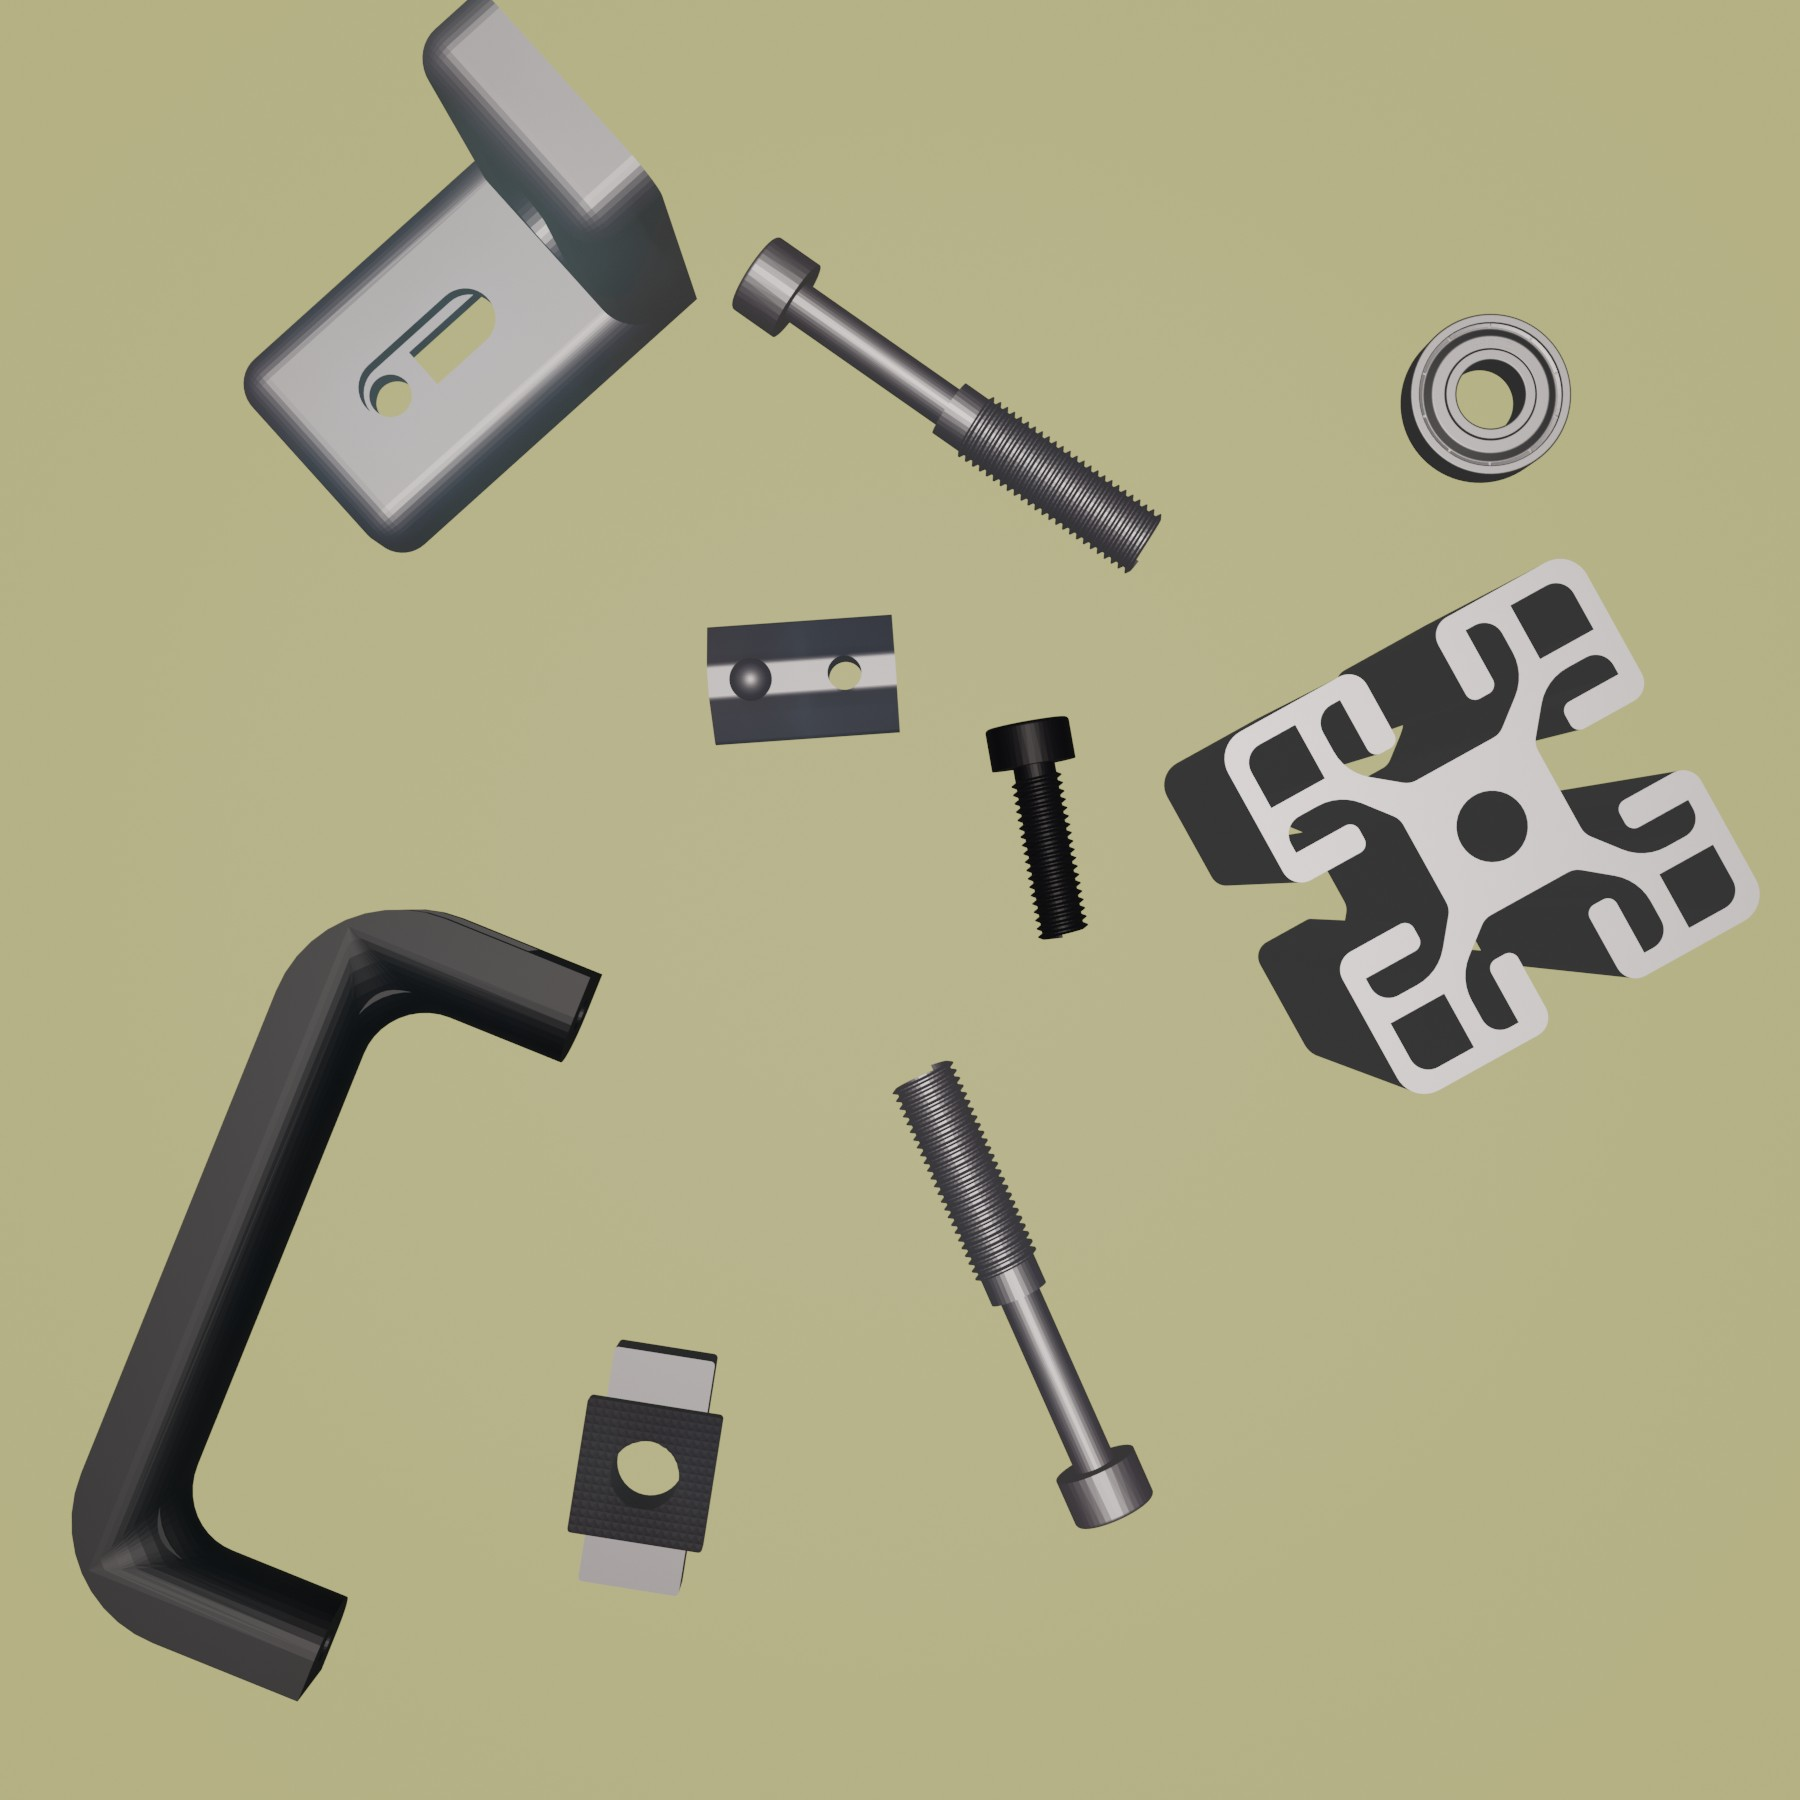Aluminium Extension: (1159, 559, 1765, 1099)
Ball Bearing: (1398, 308, 1577, 485)
Multiwinkel: (242, 2, 701, 555)
Pull Handle: (69, 907, 603, 1703)
Shoulder Socket Head Cap Screw: (727, 234, 1165, 579), (890, 1055, 1155, 1531)
Socket Head Cap Screw: (981, 712, 1091, 945)
T Nut Square: (562, 1337, 729, 1601)
T Spring Nut: (704, 612, 905, 752)
